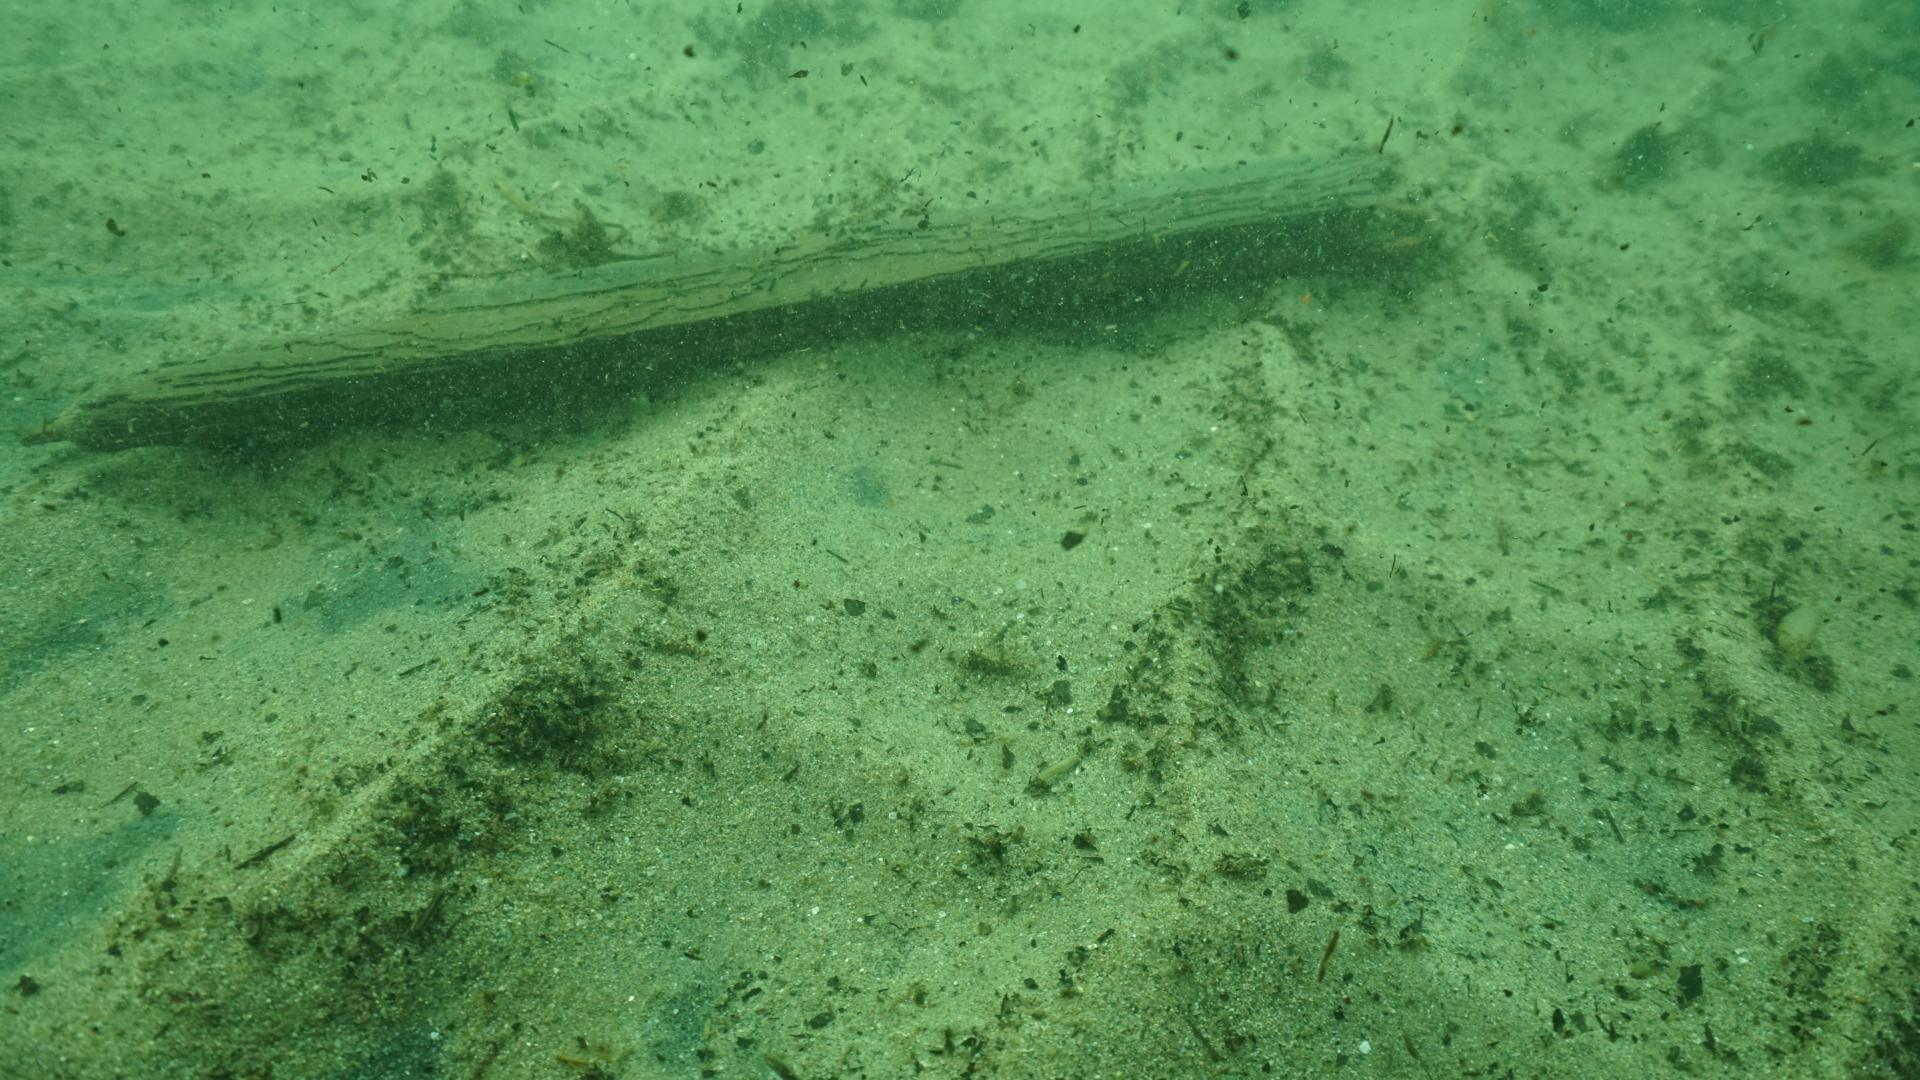wood: (54, 145, 1436, 455)
